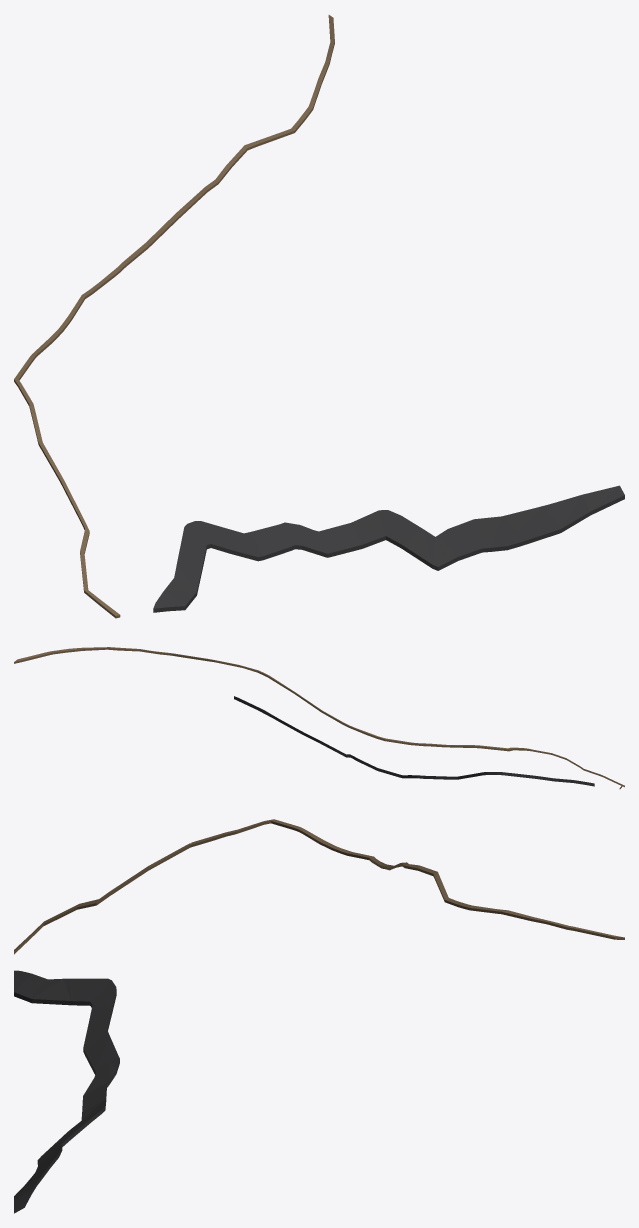
3 renders of one model, top to bottom at view 1: azimuth 30°, elevation 25°; view 2: azimuth 150°, elevation 25°; view 3: azimuth 270°, elevation 25°, orthographic. The views are drawn at different scales.
Bounding box in the file's own units: 162 × 89.87 × 158.
